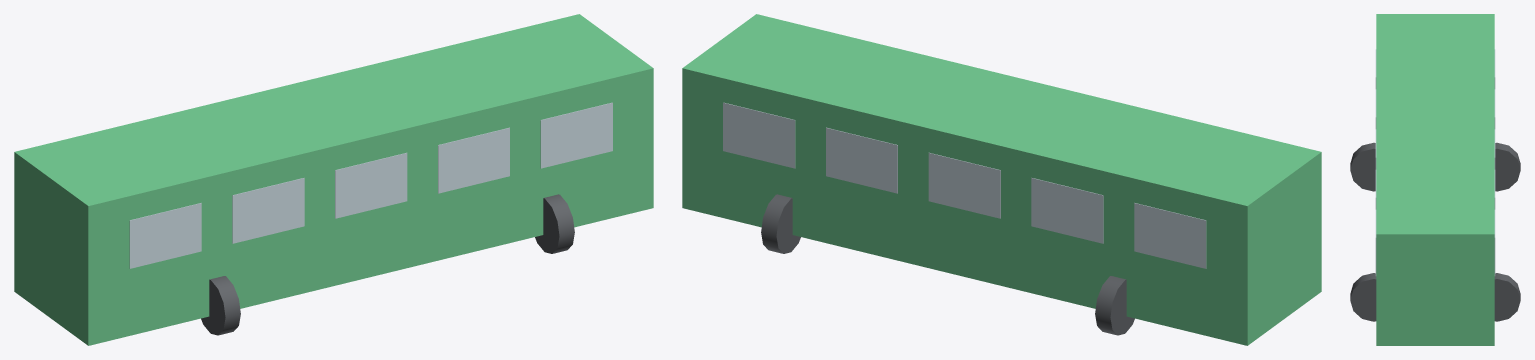
The model's file is Bus.glb.
The picture shows the model from 3 angles, left to right: view 1: azimuth 30°, elevation 25°; view 2: azimuth 150°, elevation 25°; view 3: azimuth 270°, elevation 25°; orthographic projection. The views are drawn at different scales.
Parts seen in each view (by area): view 1: model; view 2: model; view 3: model.
Part boxes in pixels (<box>): model: <box>14,14,653,345</box>; model: <box>682,14,1321,345</box>; model: <box>1350,14,1520,345</box>.
Bounding box in the file's own units: 11 × 2.9 × 3.6.
